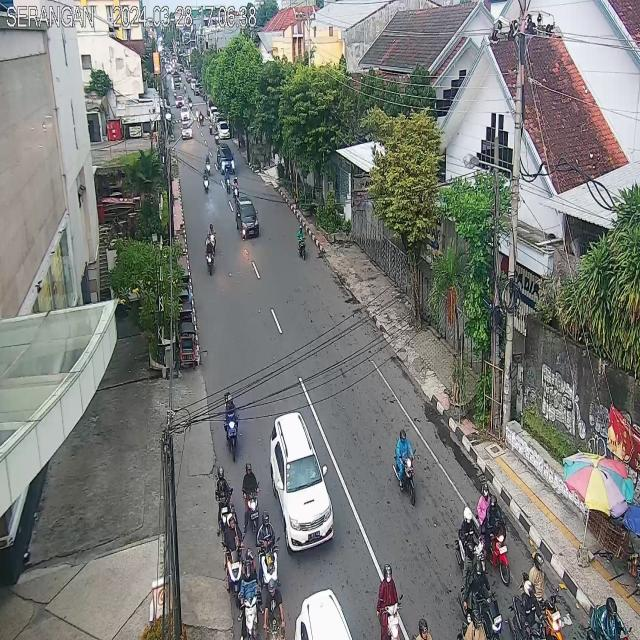car: (270, 412, 334, 556), (295, 587, 353, 640), (235, 197, 260, 240), (217, 143, 234, 174), (181, 122, 193, 140)
motorcycle: (518, 550, 564, 640), (475, 482, 510, 586), (461, 558, 502, 640), (236, 550, 265, 640), (220, 512, 247, 605), (255, 510, 281, 592), (455, 506, 485, 577), (392, 429, 418, 507), (376, 563, 402, 640), (507, 582, 540, 640), (587, 597, 631, 640), (213, 464, 236, 540), (221, 390, 243, 464), (241, 461, 261, 535), (263, 578, 285, 640), (204, 234, 214, 277), (297, 224, 306, 262), (207, 223, 216, 255), (232, 177, 240, 201), (224, 168, 231, 194), (205, 154, 212, 178), (203, 168, 209, 194)
